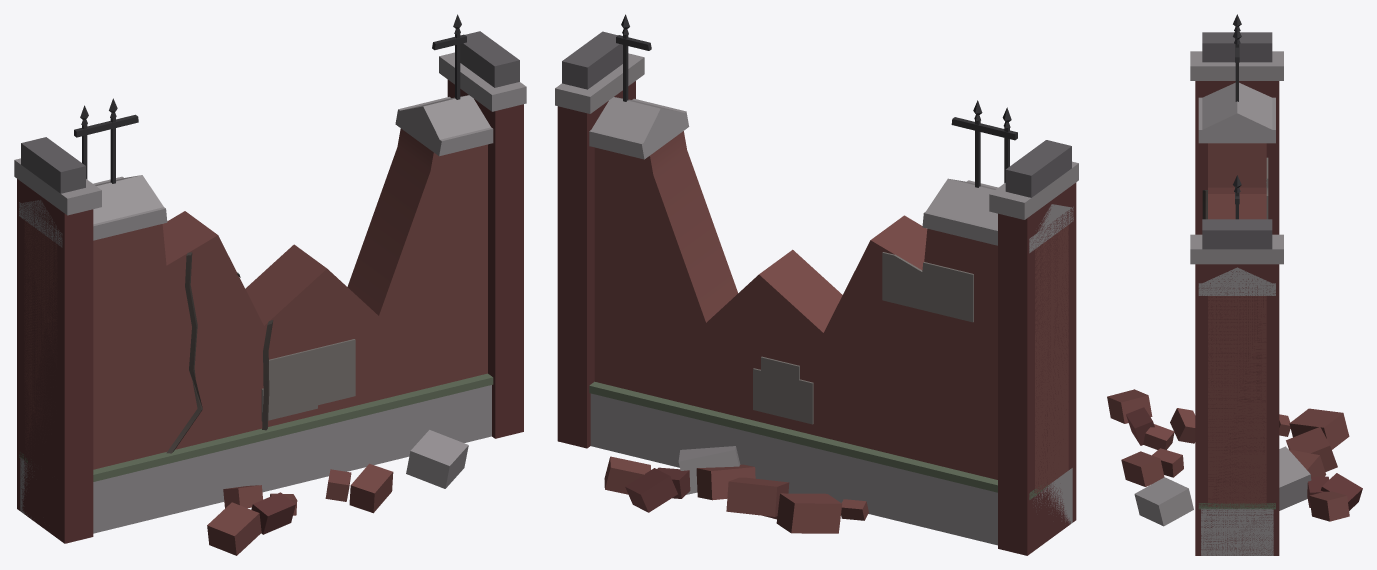
Rendered from wall_segment_broken.glb.
3 renders of one model, left to right at view 1: azimuth 30°, elevation 25°; view 2: azimuth 150°, elevation 25°; view 3: azimuth 270°, elevation 25°, orthographic. The views are drawn at different scales.
Visible parts, largest first — view 1: WallSegmentBroken; view 2: WallSegmentBroken; view 3: WallSegmentBroken.
Boxes of the visible parts, x1,y1,x2,y2 form: WallSegmentBroken: [14, 14, 526, 555]; WallSegmentBroken: [555, 14, 1078, 555]; WallSegmentBroken: [1107, 14, 1362, 555].
Bounding box in the file's own units: 4 × 3.52 × 2.19.
